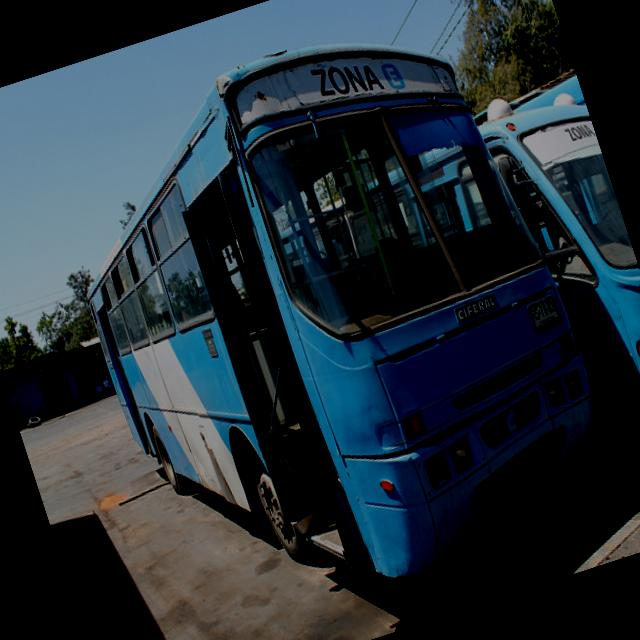Vehicle: (33, 0, 581, 495), (187, 352, 634, 635), (475, 90, 640, 496), (504, 68, 590, 140)
